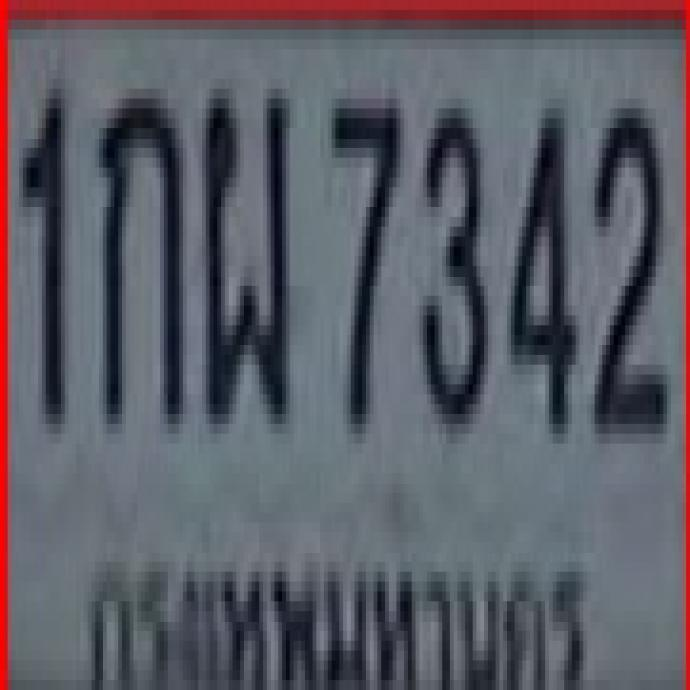1: (18, 81, 60, 416)
2: (589, 98, 661, 425)
3: (416, 96, 482, 418)
4: (506, 98, 571, 425)
7: (327, 87, 396, 421)
A01: (96, 83, 179, 418)
A28: (199, 78, 285, 417)
BKK: (74, 528, 597, 689)
